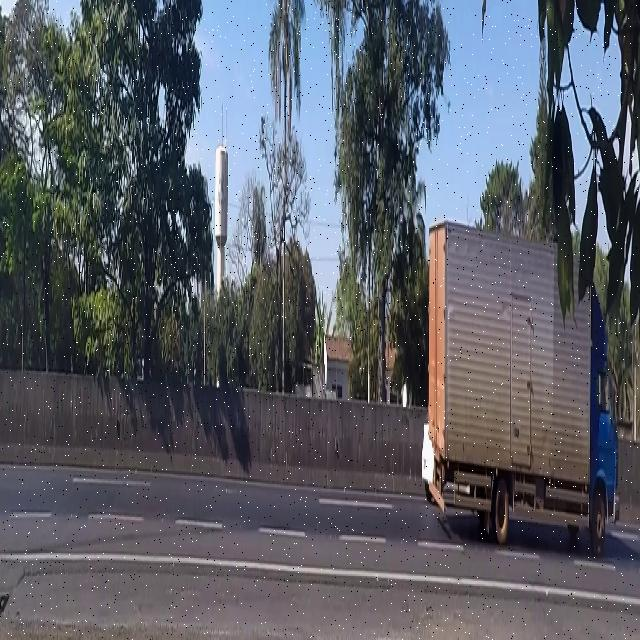-axle: (492, 466, 509, 560), (590, 478, 610, 556)
